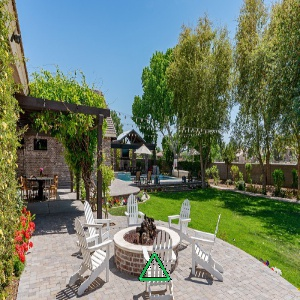triangle: (137, 250, 173, 284)
